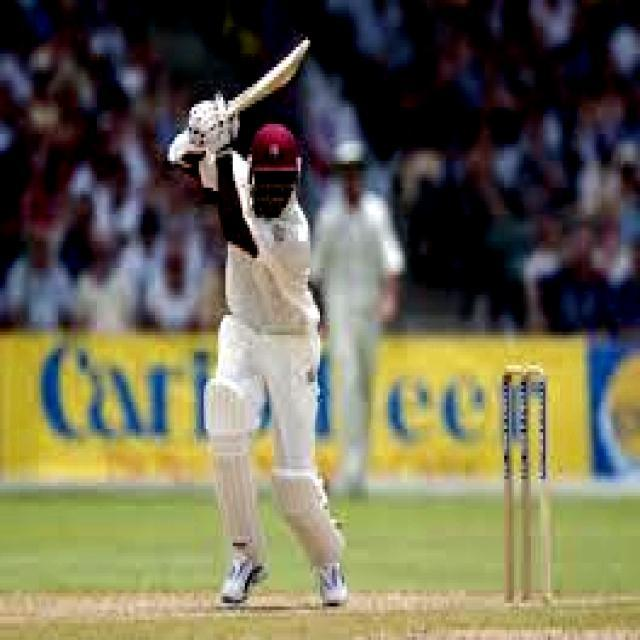bat: (215, 36, 318, 118)
toe: (299, 36, 316, 51)
